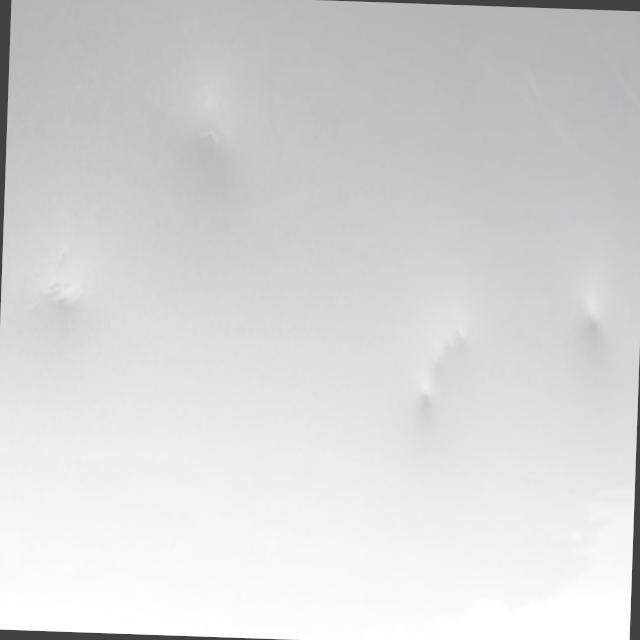dent: (384, 228, 550, 437), (29, 224, 131, 337), (569, 265, 615, 343), (192, 98, 228, 160)
